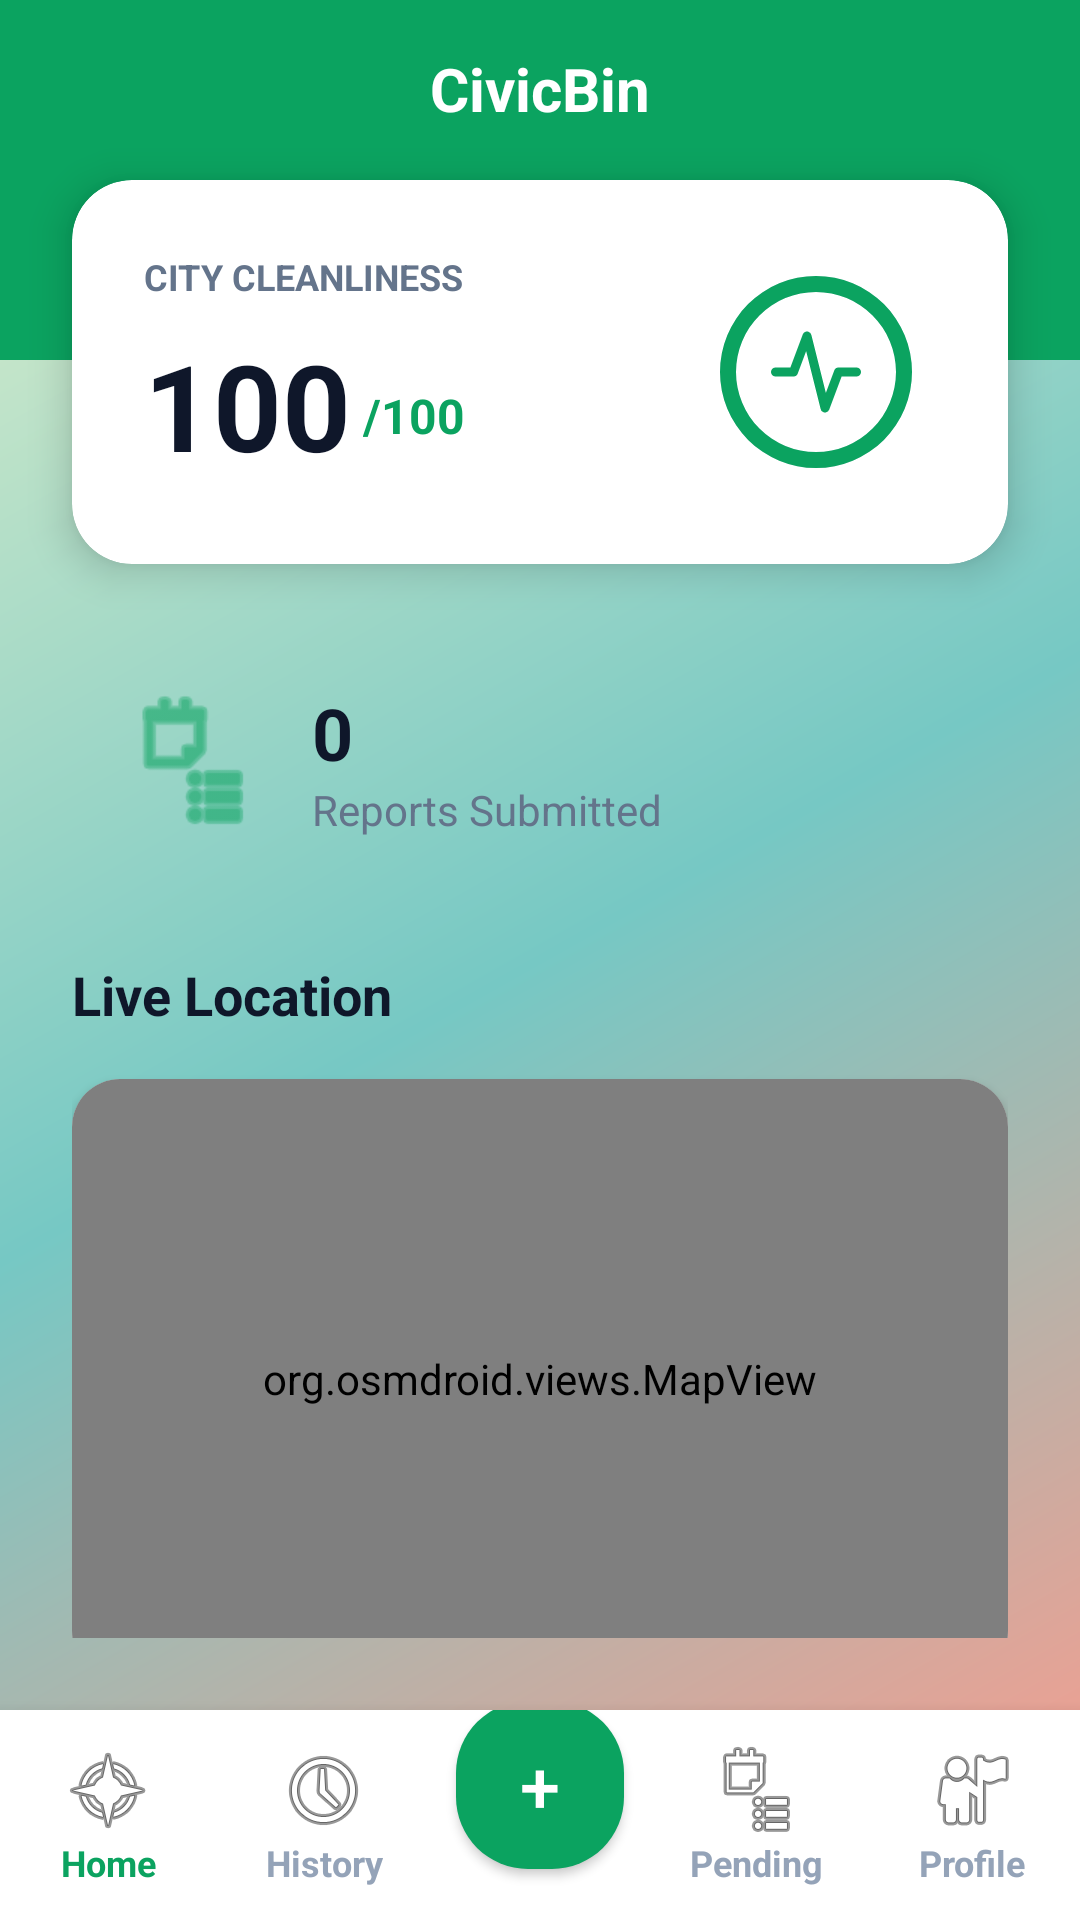

Where to tap for icons on this 1080px x 1920px app screen, as (x,y):
pulse: (816,372)
